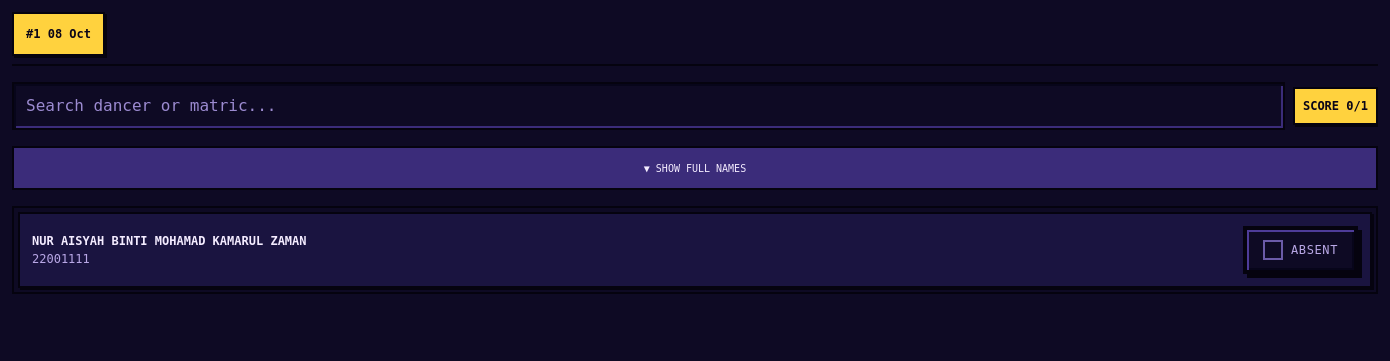
Scenario: RosterList full names › SHOW FULL NAMES wraps names instead of cutting them, and stacks the button under the name
The width and height of the screenshot is (1390, 361).
Step 1. Click the button "▼ SHOW FULL NAMES" → (695, 168), box [12, 146, 1378, 190]
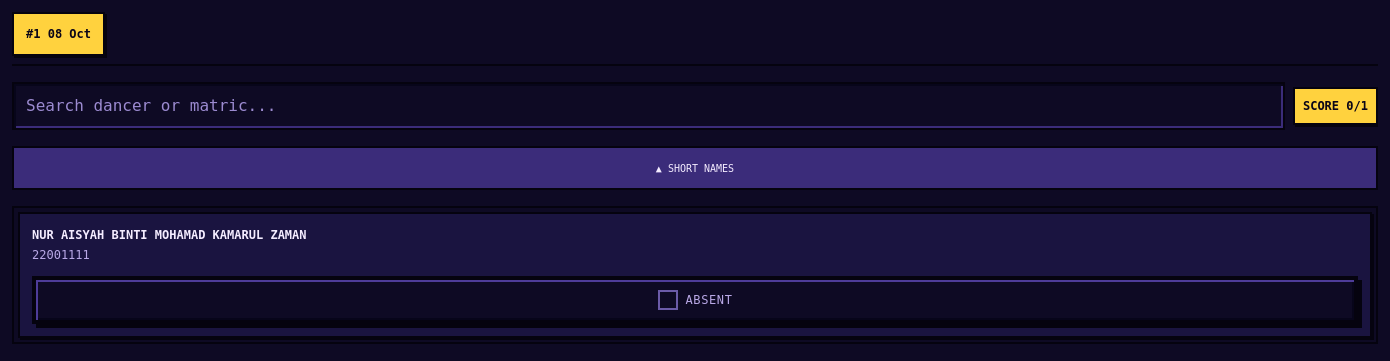
Expected: the button "▲ SHORT NAMES" is shown, [12, 146, 1378, 190]
